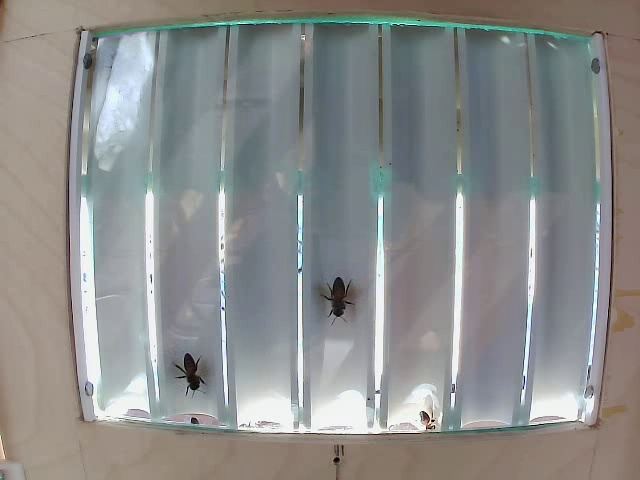bee: (174, 347, 206, 393), (323, 271, 346, 318)
